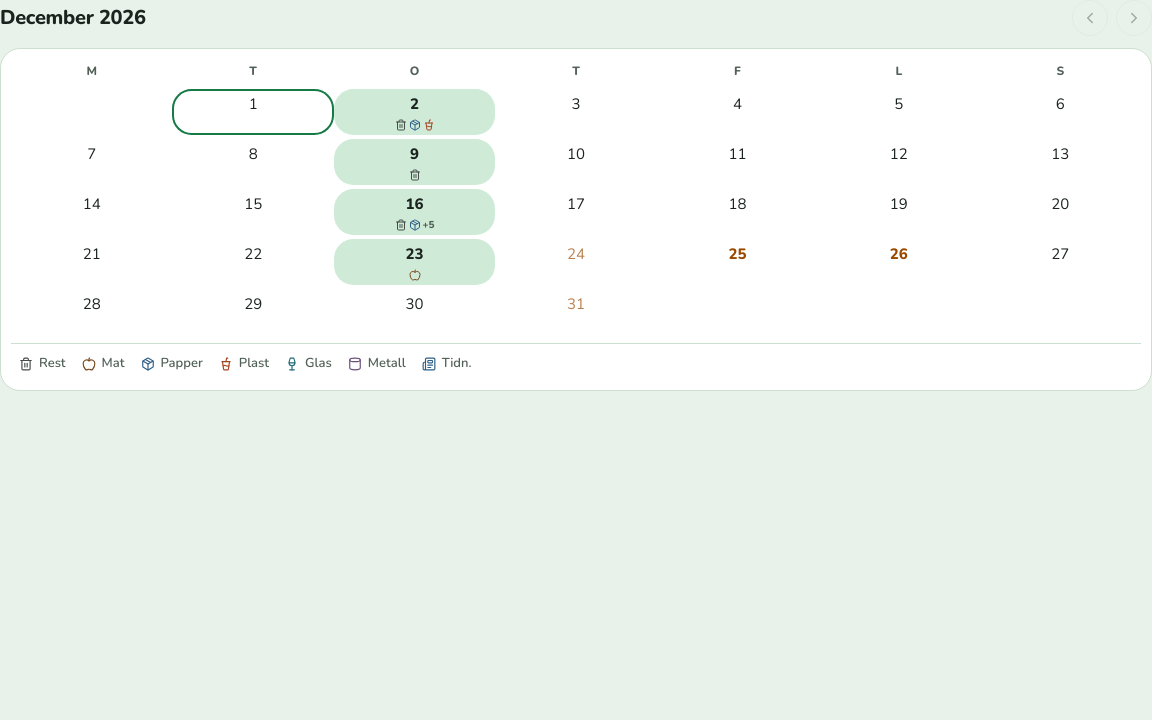
MonthCalendar › visar allt som töms en dag när man trycker på den
Click the button named "16 december:". click: (414, 212)
box: [334,189,495,235]
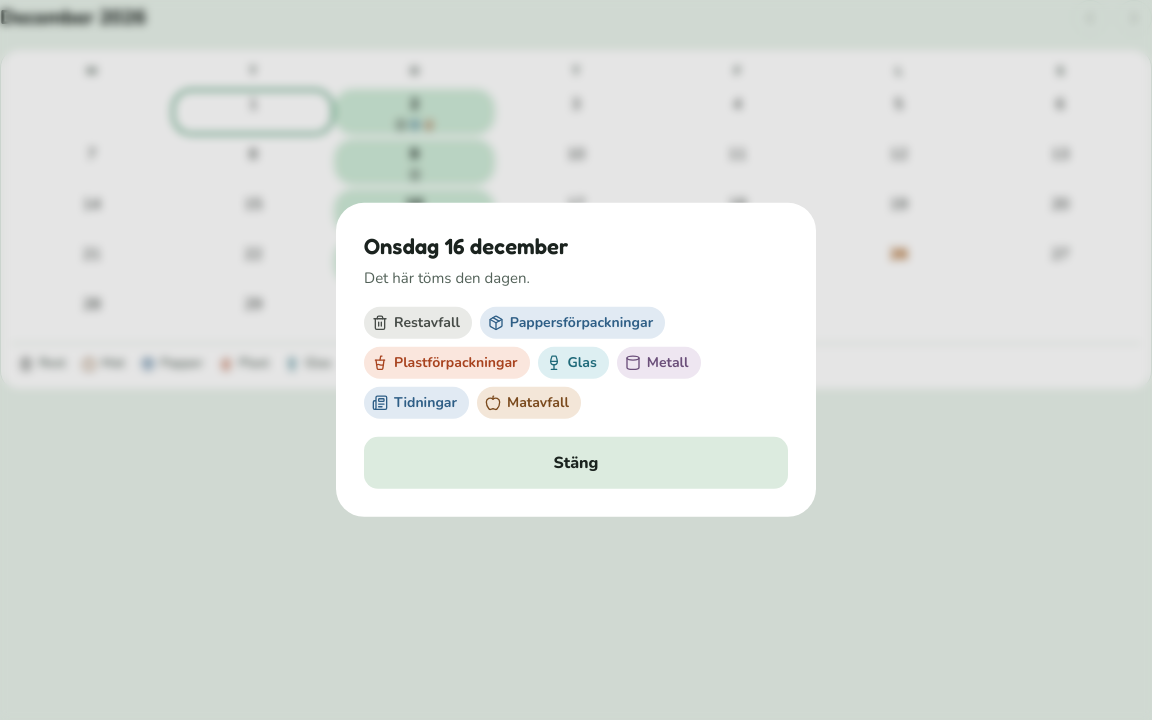
expect the text "Restavfall" is shown: met, box [364,307,472,339]
expect the text "Matavfall" is shown: met, box [477,387,581,419]
expect the text "Glas" is shown: met, box [538,347,609,379]
